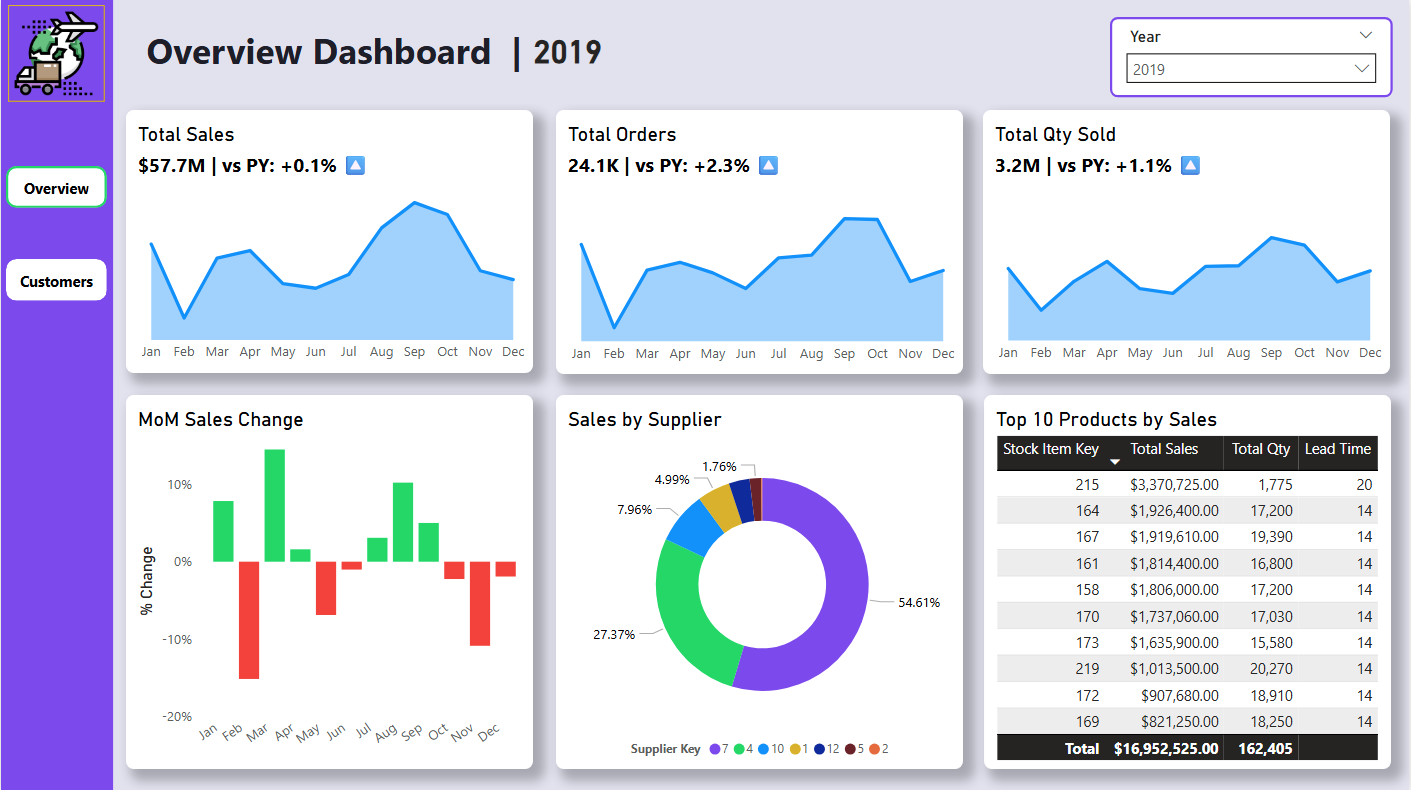

Layout of this report page (visuals, bound fields, positions):
{"tool":"powerbi","page":{"name":"Overview","canvas":[1280,720],"ordinal":0},"visuals":[{"type":"areaChart","title":"Total Sales","fields":{"Y":["Calculations.TotalSales"],"Category":["DimDate.MonthNameAbr"]},"box":[114,99.9,370,239],"z":0},{"type":"shape","box":[0,0,102.3,719.7],"z":1000},{"type":"textbox","box":[126.9,18.3,356.7,64.8],"z":2000},{"type":"slicer","fields":{"Values":["DimDateFilter.Year"]},"box":[1007.9,15.5,256.6,73.3],"z":3000},{"type":"areaChart","title":"Total Orders","fields":{"Category":["DimDate.MonthNameAbr"],"Y":["Count(FactSales.OrderID)"]},"box":[504.2,99.9,370,240.3],"z":4000},{"type":"areaChart","title":"Total Qty Sold","fields":{"Category":["DimDate.MonthNameAbr"],"Y":["Calculations.TotalQty"]},"box":[892.8,100.1,370,239.6],"z":5000},{"type":"cardVisual","fields":{"Data":["Calculations.SelectedYear"]},"box":[472.2,8.5,107.1,69.1],"z":6000},{"type":"tableEx","title":"Top 10 Products by Sales","fields":{"Values":["DimStockItems.StockItemKey","Calculations.TotalSales","Calculations.TotalQty","DimStockItems.LeadTimeDays"]},"box":[893.2,359.3,370,340.2],"z":7000},{"type":"clusteredColumnChart","title":"MoM Sales Change","fields":{"Y":["Calculations.SalesMoM"],"Category":["DimDate.MonthNameAbr"]},"box":[114,359.3,370,340.2],"z":8000},{"type":"donutChart","title":"Sales by Supplier","fields":{"Y":["Calculations.TotalSales"],"Category":["FactSales.SupplierKey","DimSuppliersSCD.IsActiveMember"],"Series":["DimStockItems.SupplierName"]},"box":[504.2,359.3,370,340.2],"z":9000},{"type":"image","box":[5.9,4.8,88,88],"z":10000},{"type":"shape","box":[4.5,151.1,91.6,38.1],"z":11000},{"type":"shape","box":[4.5,235.5,91.6,38.1],"z":12000}]}

Visuals, with their boxes in screenshot pixels (x1, y1, x2, y2), scaled from the page's 1280x720 canvas onto the 1411x790 screenshot:
"Total Sales" areaChart: 126/110/534/372
shape: 0/0/113/789
textbox: 140/20/533/91
slicer - DimDateFilter.Year: 1111/17/1394/97
"Total Orders" areaChart: 556/110/964/373
"Total Qty Sold" areaChart: 984/110/1392/373
cardVisual - Calculations.SelectedYear: 521/9/639/85
"Top 10 Products by Sales" tableEx: 985/394/1392/768
"MoM Sales Change" clusteredColumnChart: 126/394/534/768
"Sales by Supplier" donutChart: 556/394/964/768
image: 7/5/104/102
shape: 5/166/106/208
shape: 5/258/106/300
